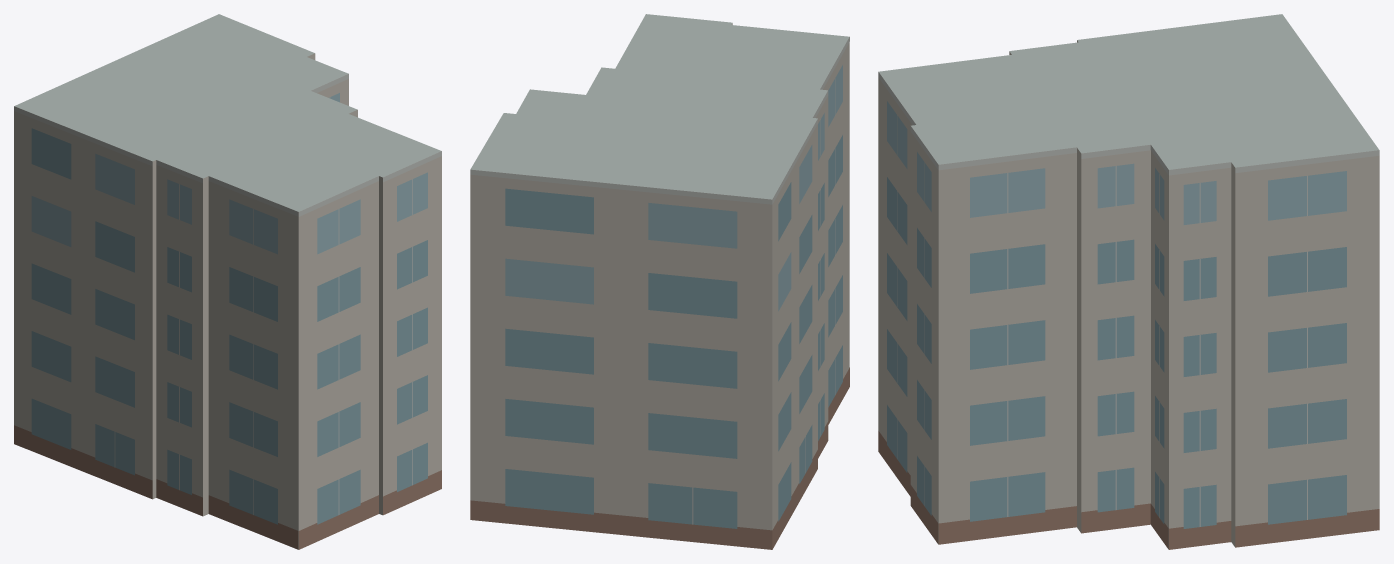
File: survey-upis-33033939.glb
The picture shows the model from 3 angles, left to right: view 1: azimuth 30°, elevation 25°; view 2: azimuth 150°, elevation 25°; view 3: azimuth 270°, elevation 25°; orthographic projection. The views are drawn at different scales.
Parts seen in each view (by area): view 1: survey-upis-33033939.tmp; view 2: survey-upis-33033939.tmp; view 3: survey-upis-33033939.tmp.
Boxes of the visible parts, bbox=[...] form: survey-upis-33033939.tmp: bbox=[14, 14, 441, 549]; survey-upis-33033939.tmp: bbox=[470, 14, 849, 549]; survey-upis-33033939.tmp: bbox=[878, 14, 1379, 549].
Size of the model in its own units: 14.72 by 16.7 by 19.97.
